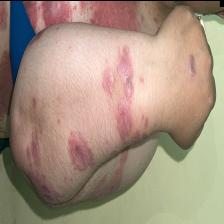Psoriasis vulgaris: (64, 46, 150, 180)
